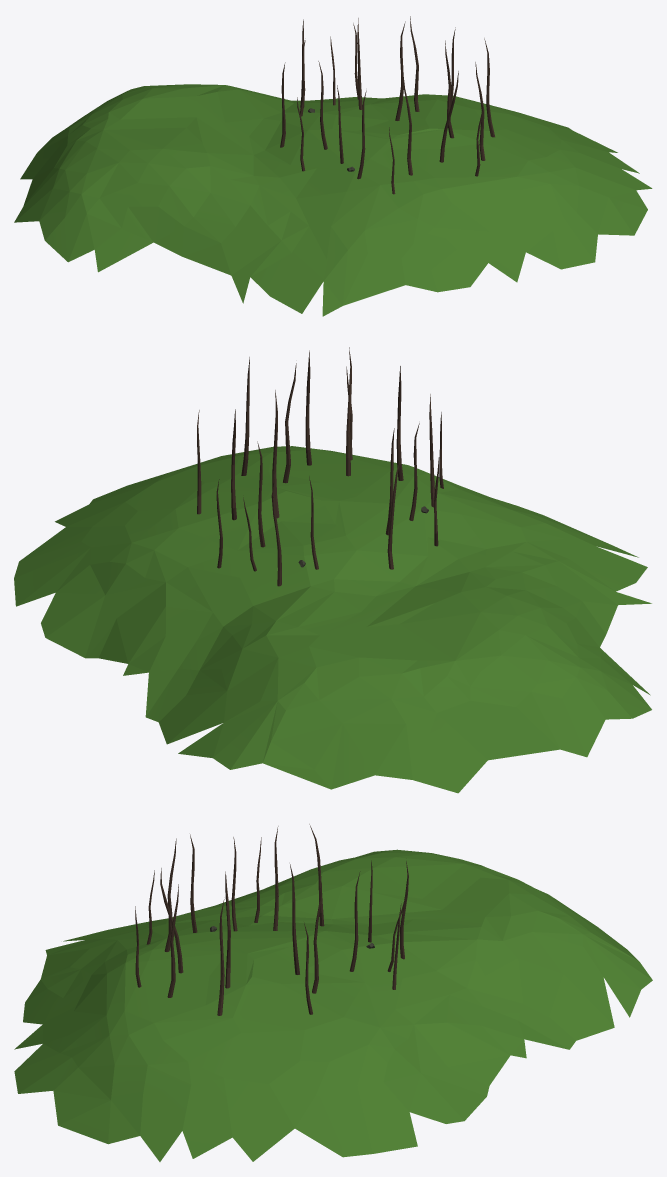
The model's file is Combined Mesh (root_ scene)_3.glb.
The picture shows the model from 3 angles, top to bottom: view 1: azimuth 30°, elevation 25°; view 2: azimuth 150°, elevation 25°; view 3: azimuth 270°, elevation 25°; orthographic projection. The views are drawn at different scales.
Parts seen in each view (by area): view 1: Combined Mesh (root_ scene)_3; view 2: Combined Mesh (root_ scene)_3; view 3: Combined Mesh (root_ scene)_3.
Part boxes in pixels (bbox=[...]): Combined Mesh (root_ scene)_3: bbox=[14, 16, 652, 316]; Combined Mesh (root_ scene)_3: bbox=[14, 347, 651, 793]; Combined Mesh (root_ scene)_3: bbox=[14, 824, 652, 1161].
Bounding box in the file's own units: 47.96 × 15.76 × 44.73.
1 material, 1 textured.
